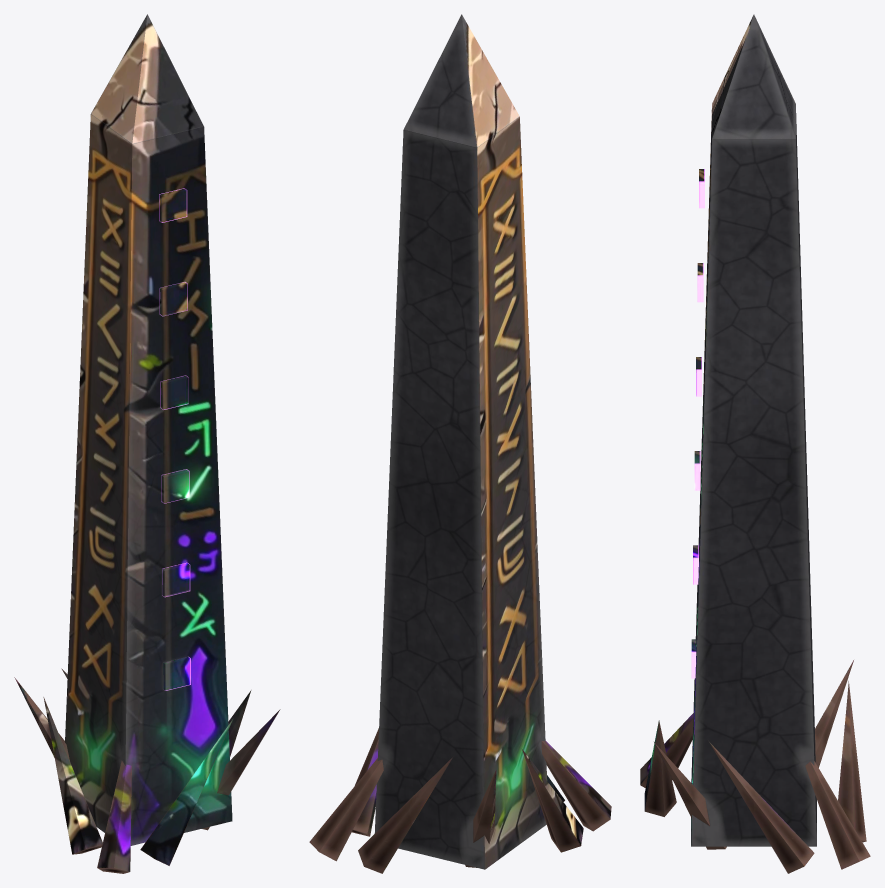
The model's file is doom.glb.
The picture shows the model from 3 angles, left to right: view 1: azimuth 30°, elevation 25°; view 2: azimuth 150°, elevation 25°; view 3: azimuth 270°, elevation 25°; orthographic projection. The views are drawn at different scales.
Parts seen in each view (by area): view 1: doom; view 2: doom; view 3: doom.
Part boxes in pixels (left/top/right/bottom): doom: left=14, top=14, right=280, bottom=873; doom: left=309, top=14, right=611, bottom=873; doom: left=640, top=14, right=870, bottom=873.
Size of the model in its own units: 0.7629 by 3.04 by 0.7779.
1 material, 1 textured.
